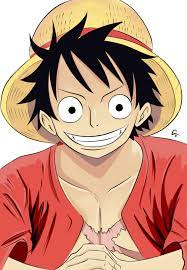luffy: (1, 1, 185, 167)
